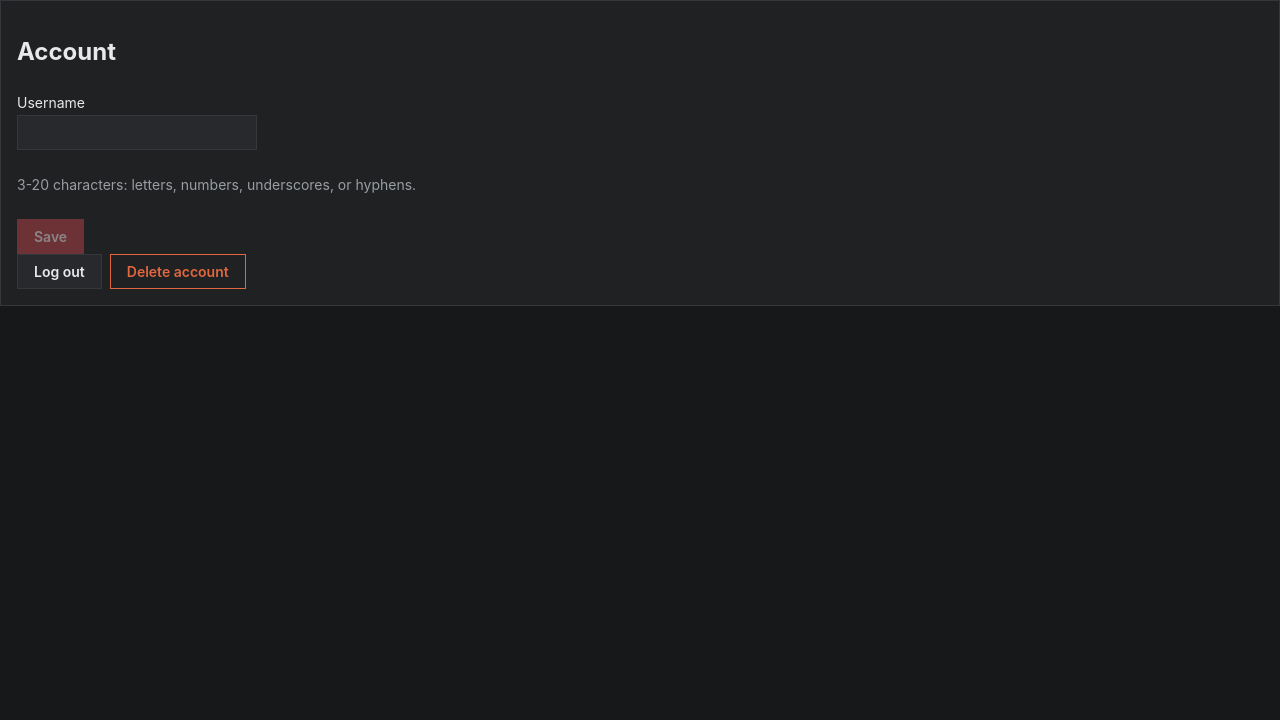
Test case: AccountPanel - delete account › shows a confirmation dialog before deleting, and does nothing if cancelled
Step 1. Click the button "Delete account" → [178, 271], box x1=110 y1=254 x2=246 y2=289
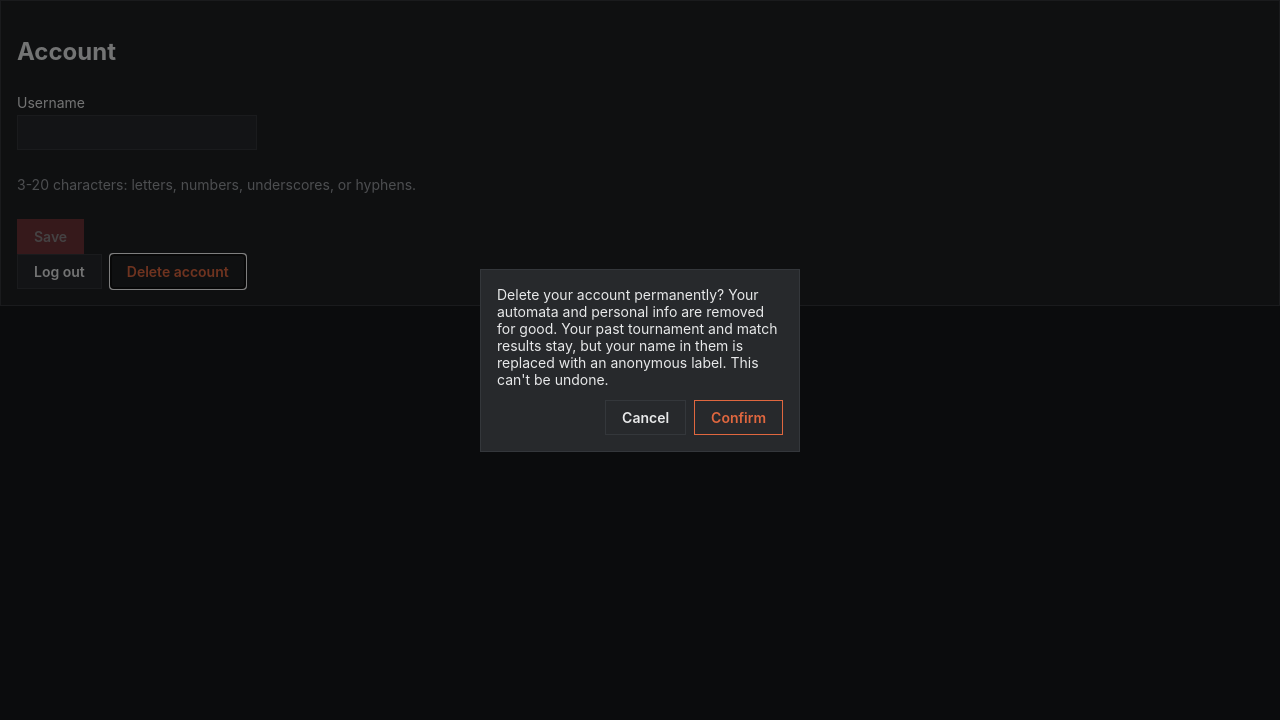
Now the text "permanently" is shown, box x1=497 y1=286 x2=778 y2=388
Step 2. Click the button "Cancel" → [646, 417], box x1=605 y1=400 x2=686 y2=434
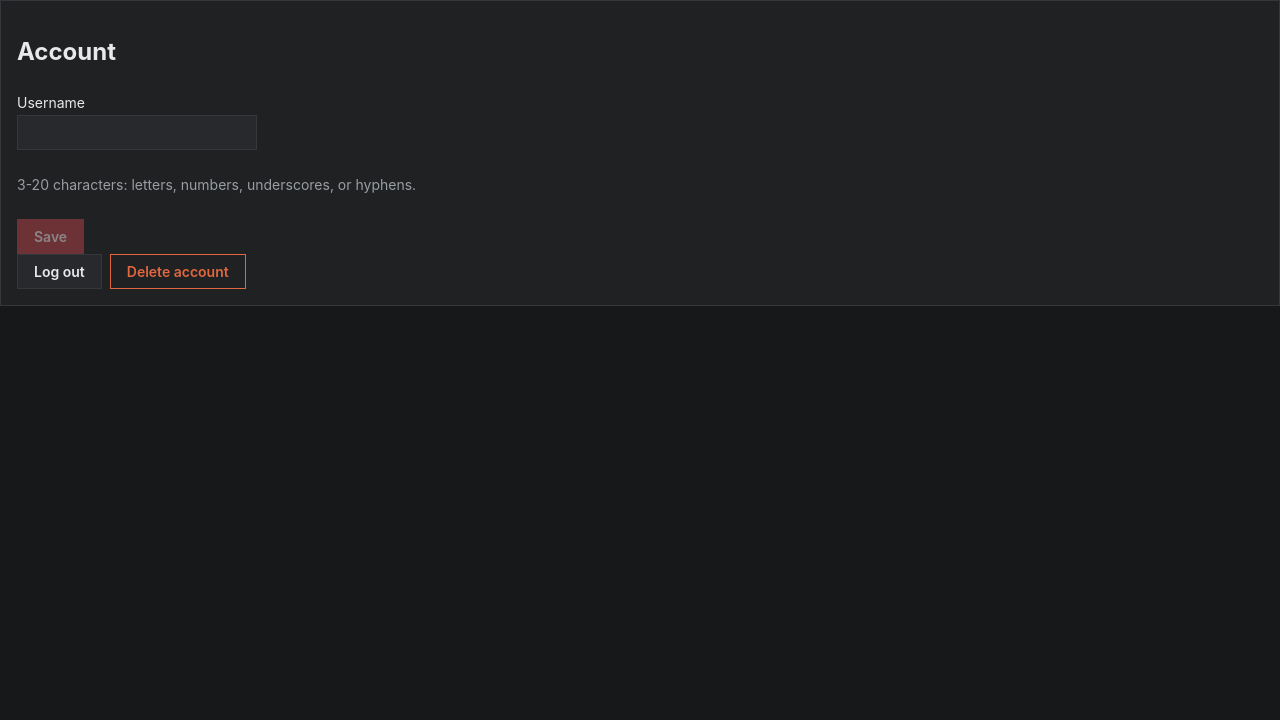
Now the text "permanently" is gone
